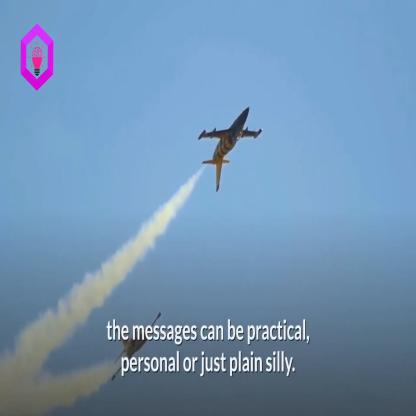plane: (200, 96, 268, 201)
